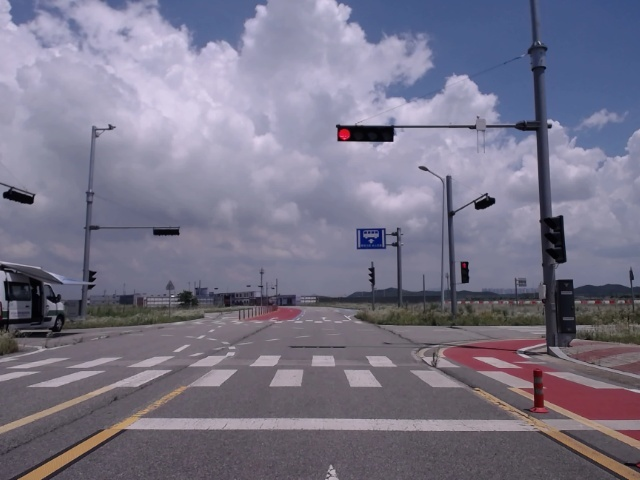red_4: (337, 128, 393, 142)
